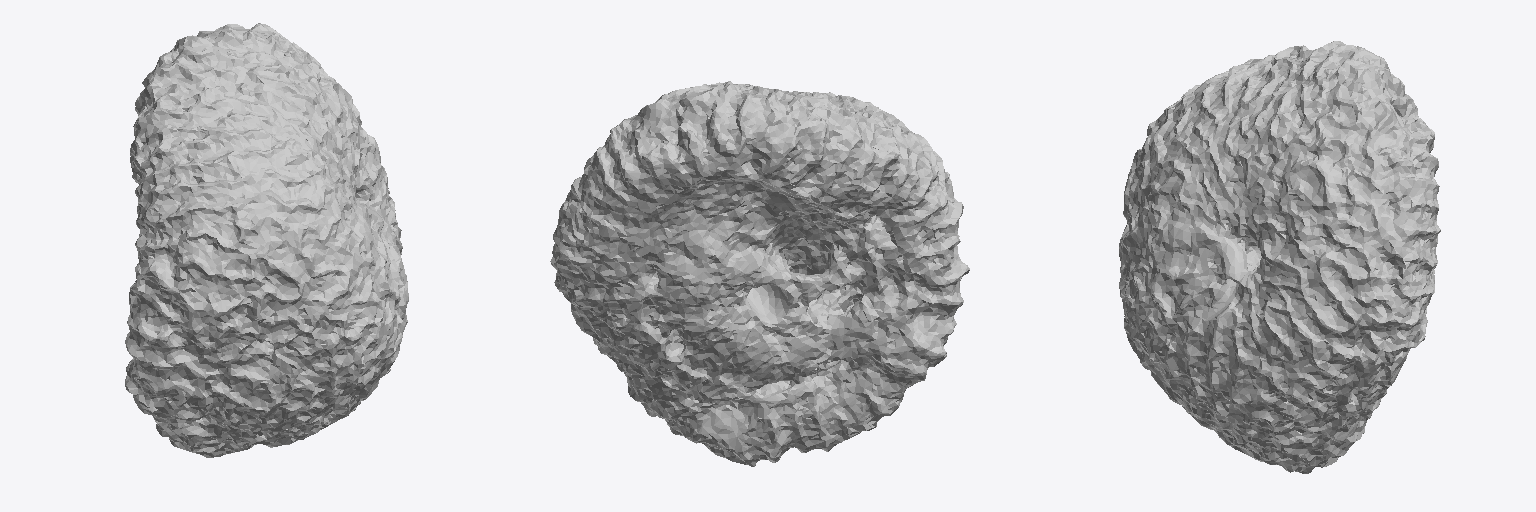
File: brainCoral_lowRes.obj
The picture shows the model from 3 angles: view 1: azimuth 30°, elevation 25°; view 2: azimuth 150°, elevation 25°; view 3: azimuth 270°, elevation 25°; orthographic projection.
Bounding box in the file's own units: 3.09 × 3.65 × 2.69.